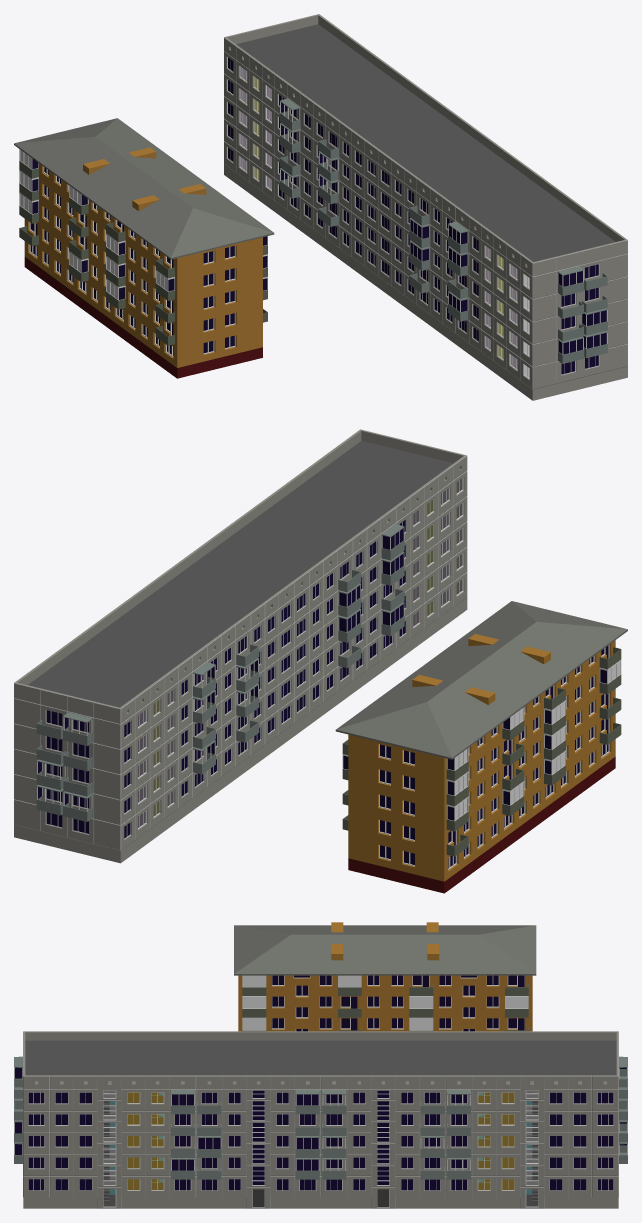
The model's file is residentialbuildings.fbx.
The picture shows the model from 3 angles, top to bottom: view 1: azimuth 30°, elevation 25°; view 2: azimuth 150°, elevation 25°; view 3: azimuth 270°, elevation 25°; orthographic projection. The views are drawn at different scales.
Visible parts, largest first — view 1: Cube.004, Plane282; view 2: Cube.004, Plane282; view 3: Cube.004, Plane282.
Part boxes in pixels (x1=…): Cube.004: x1=224, y1=14, x2=627, y2=400; Plane282: x1=14, y1=118, x2=274, y2=378; Cube.004: x1=14, y1=429, x2=467, y2=863; Plane282: x1=335, y1=601, x2=627, y2=893; Cube.004: x1=14, y1=1031, x2=627, y2=1208; Plane282: x1=234, y1=922, x2=536, y2=1031.
Bounding box in the file's own units: 5308 × 1995 × 8223.
